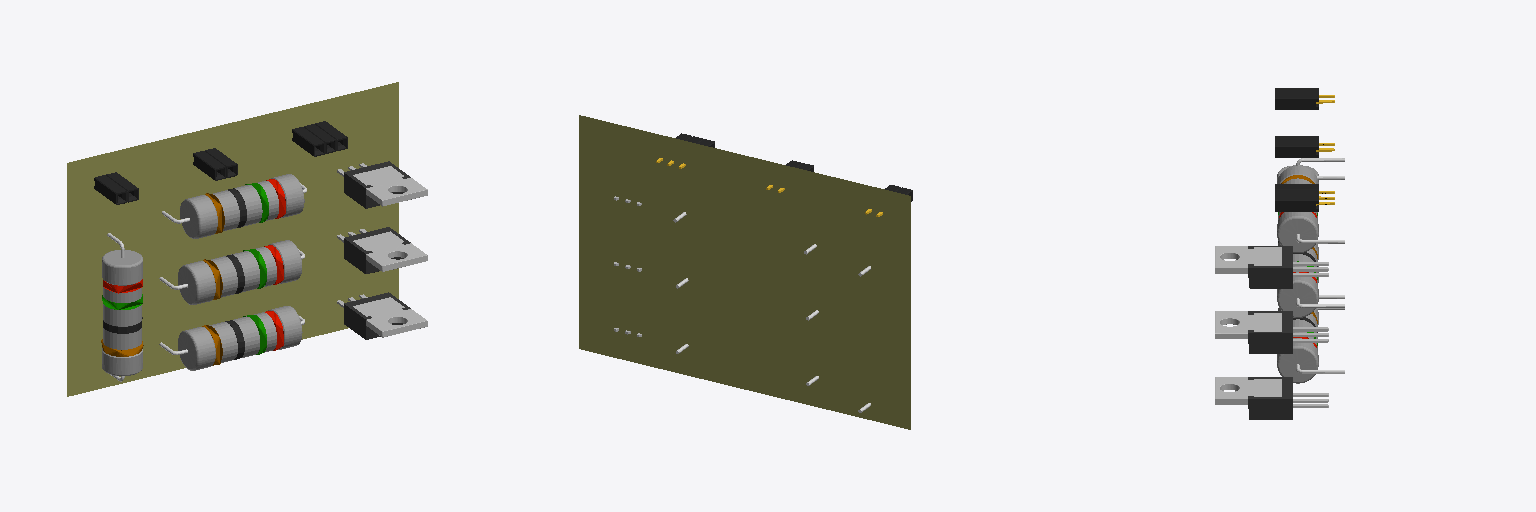
The model's file is OBJ_PCB.obj.
3 views of the same model, side by side, from view 1: azimuth 30°, elevation 25°; view 2: azimuth 150°, elevation 25°; view 3: azimuth 270°, elevation 25° (orthographic).
Size of the model in its own units: 290 by 196 by 98.03.